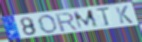8: (20, 16, 38, 36)
K: (115, 5, 135, 25)
M: (72, 9, 100, 31)
O: (38, 14, 59, 34)
R: (54, 12, 80, 33)
T: (94, 6, 112, 28)
